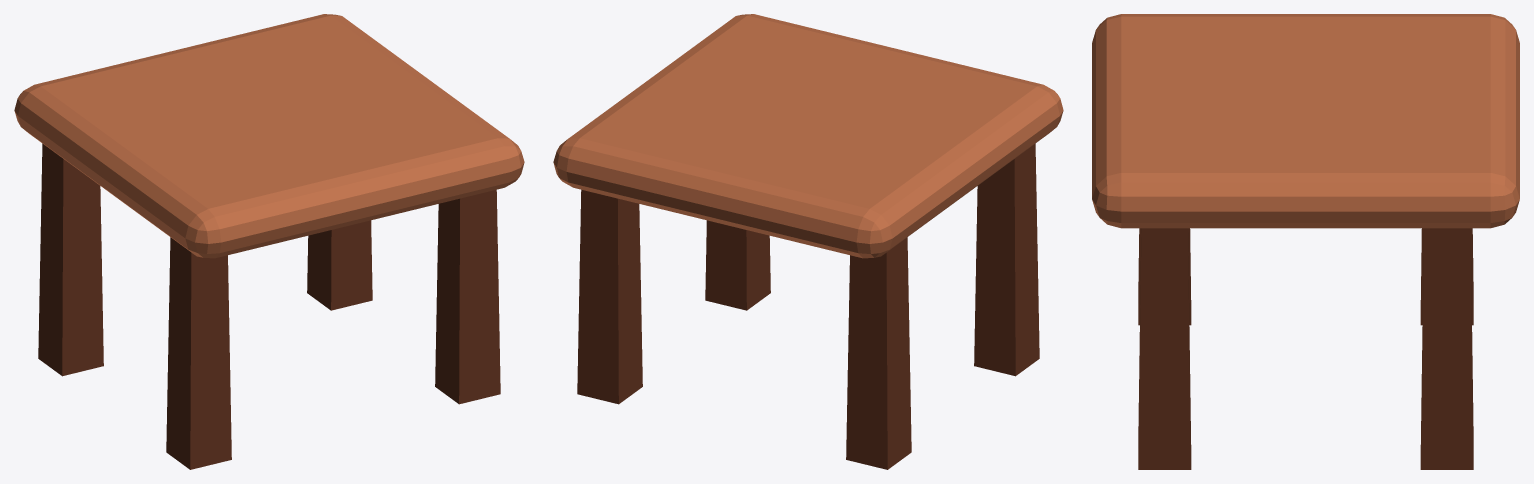
Rendered from base_1unit_table_asset.fbx.
3 views of the same model, side by side, from view 1: azimuth 30°, elevation 25°; view 2: azimuth 150°, elevation 25°; view 3: azimuth 270°, elevation 25° (orthographic). The views are drawn at different scales.
Visible parts, largest first — view 1: Cube.020, Cube.021; view 2: Cube.020, Cube.021; view 3: Cube.020, Cube.021.
Boxes of the visible parts, x1,y1,x2,y2 form: Cube.020: [14, 14, 524, 258]; Cube.021: [38, 143, 500, 469]; Cube.020: [553, 14, 1063, 258]; Cube.021: [577, 143, 1039, 469]; Cube.020: [1092, 14, 1519, 228]; Cube.021: [1138, 228, 1473, 469].
Bounding box in the file's own units: 50 × 37.6 × 50.
